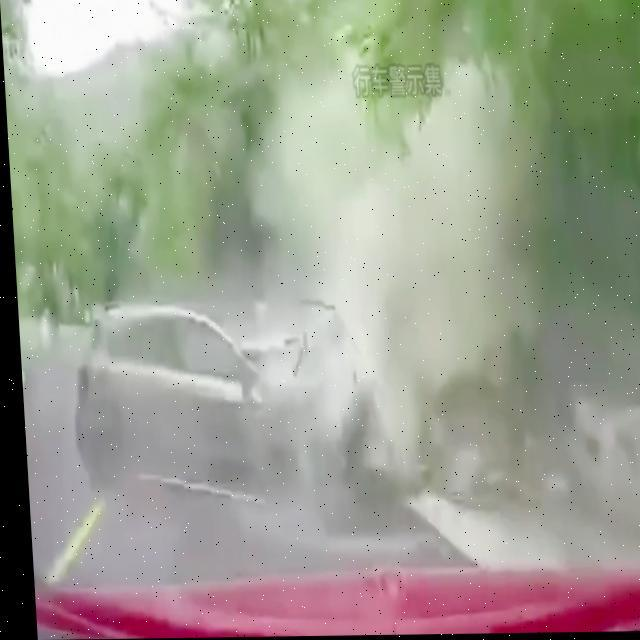single accident: (41, 268, 446, 537)
